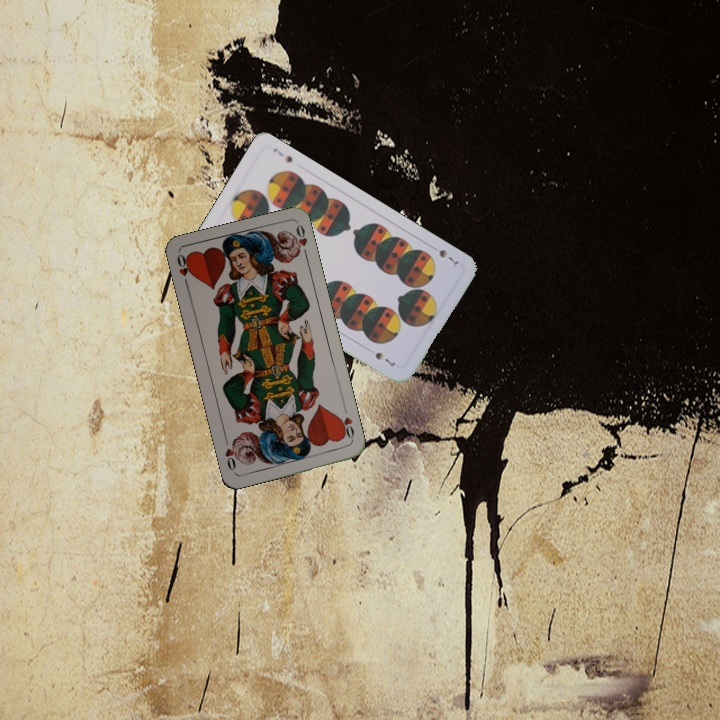HO: (334, 403, 357, 444), (173, 250, 195, 290)
S7: (435, 245, 462, 270)
